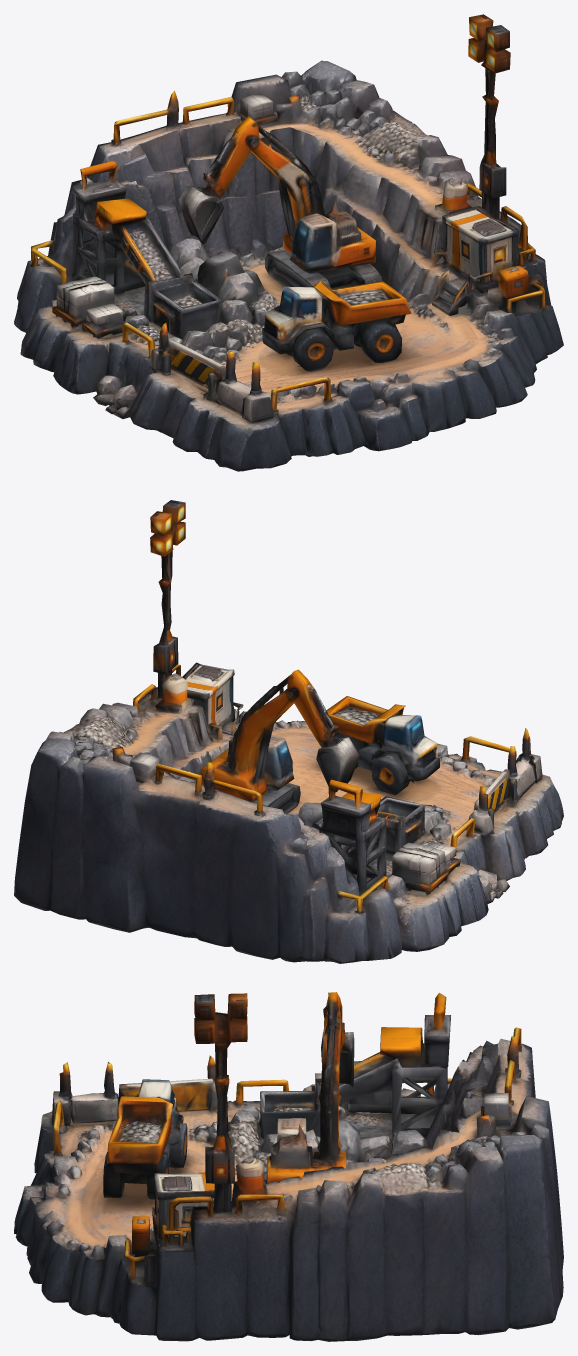
The model's file is building-quarry-l2.glb.
3 renders of one model, top to bottom at view 1: azimuth 30°, elevation 25°; view 2: azimuth 150°, elevation 25°; view 3: azimuth 270°, elevation 25°, orthographic. The views are drawn at different scales.
Parts seen in each view (by area): view 1: tripo_node_bf31f0fd-004f-421e-bed6-412e250ad815; view 2: tripo_node_bf31f0fd-004f-421e-bed6-412e250ad815; view 3: tripo_node_bf31f0fd-004f-421e-bed6-412e250ad815.
Part boxes in pixels (x1,y1,x2,y2): tripo_node_bf31f0fd-004f-421e-bed6-412e250ad815: (14,14,563,471); tripo_node_bf31f0fd-004f-421e-bed6-412e250ad815: (14,500,563,963); tripo_node_bf31f0fd-004f-421e-bed6-412e250ad815: (14,992,563,1341).
Size of the model in its own units: 0.9175 by 0.6541 by 0.9793.
1 material, 1 textured.
